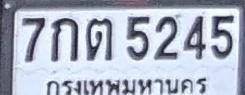2: (154, 16, 178, 59)
4: (184, 15, 206, 59)
5: (126, 15, 150, 60), (211, 14, 234, 58)
7: (22, 17, 45, 62)
A01: (50, 16, 78, 62)
A21: (86, 18, 113, 60)
BKK: (42, 72, 209, 95)
